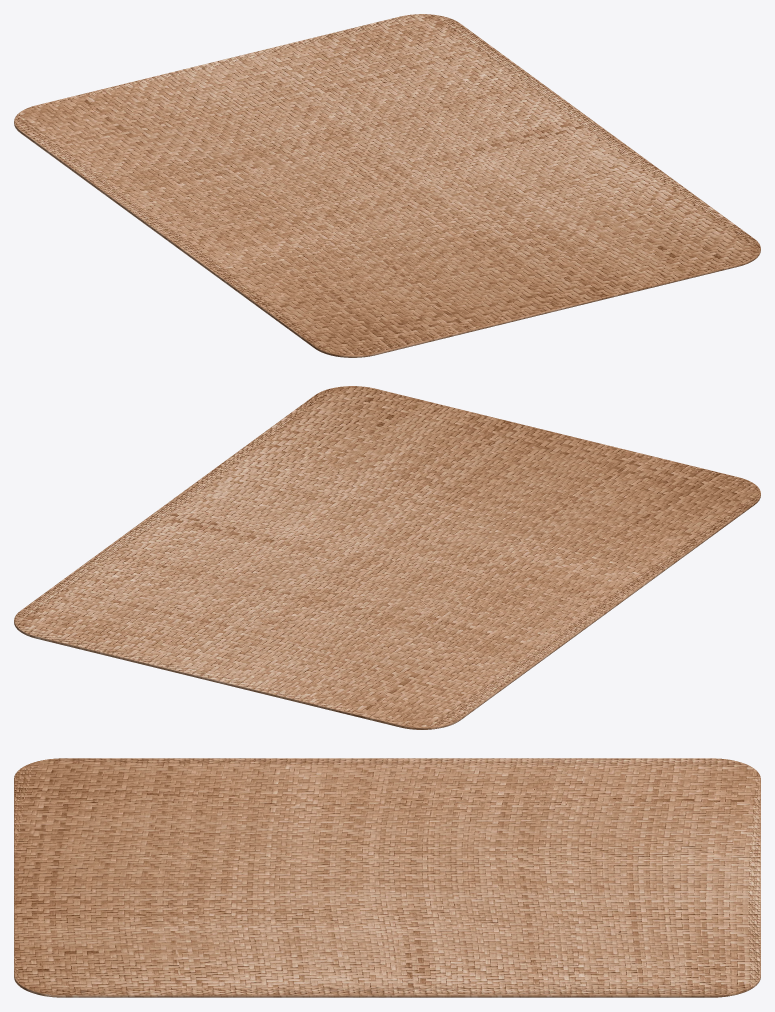
Rendered from petate-tradicional.glb.
The picture shows the model from 3 angles, top to bottom: view 1: azimuth 30°, elevation 25°; view 2: azimuth 150°, elevation 25°; view 3: azimuth 270°, elevation 25°; orthographic projection. The views are drawn at different scales.
Visible parts, largest first — view 1: Object_2; view 2: Object_2; view 3: Object_2.
Boxes of the visible parts, <box> form: Object_2: <box>14,14,760,357</box>; Object_2: <box>14,386,760,729</box>; Object_2: <box>14,758,760,997</box>.
Bounding box in the file's own units: 1.2 × 0.00663 × 1.6.
Materials: 1 (1 with a texture image).
